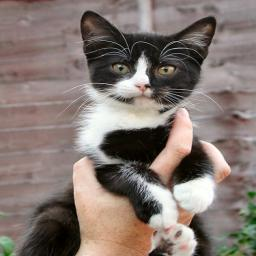catnose: (132, 79, 154, 94)
